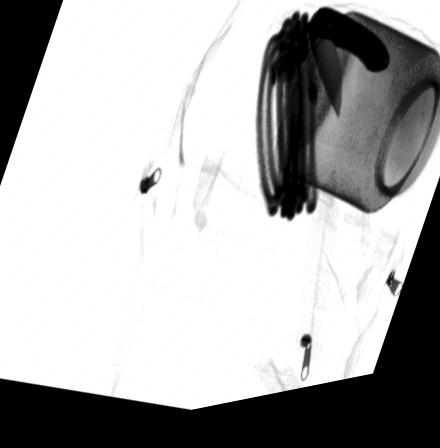Knife: (306, 18, 392, 130)
